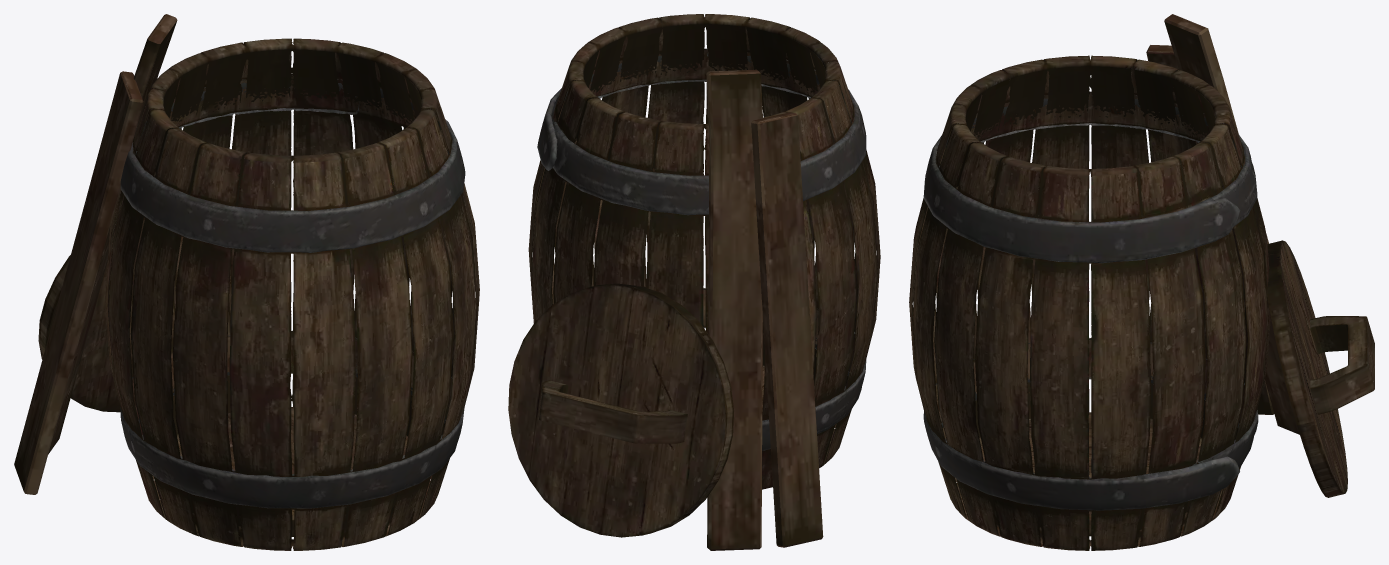
3 renders of one model, left to right at view 1: azimuth 30°, elevation 25°; view 2: azimuth 150°, elevation 25°; view 3: azimuth 270°, elevation 25°, orthographic. The views are drawn at different scales.
Visible parts, largest first — view 1: SM_Garou_Barrel_03_LOD0; view 2: SM_Garou_Barrel_03_LOD0; view 3: SM_Garou_Barrel_03_LOD0.
Part boxes in pixels (bbox=[...]): SM_Garou_Barrel_03_LOD0: bbox=[14, 14, 479, 550]; SM_Garou_Barrel_03_LOD0: bbox=[508, 14, 880, 550]; SM_Garou_Barrel_03_LOD0: bbox=[909, 14, 1374, 550].
Size of the model in its own units: 1.38 by 1.68 by 1.6.
